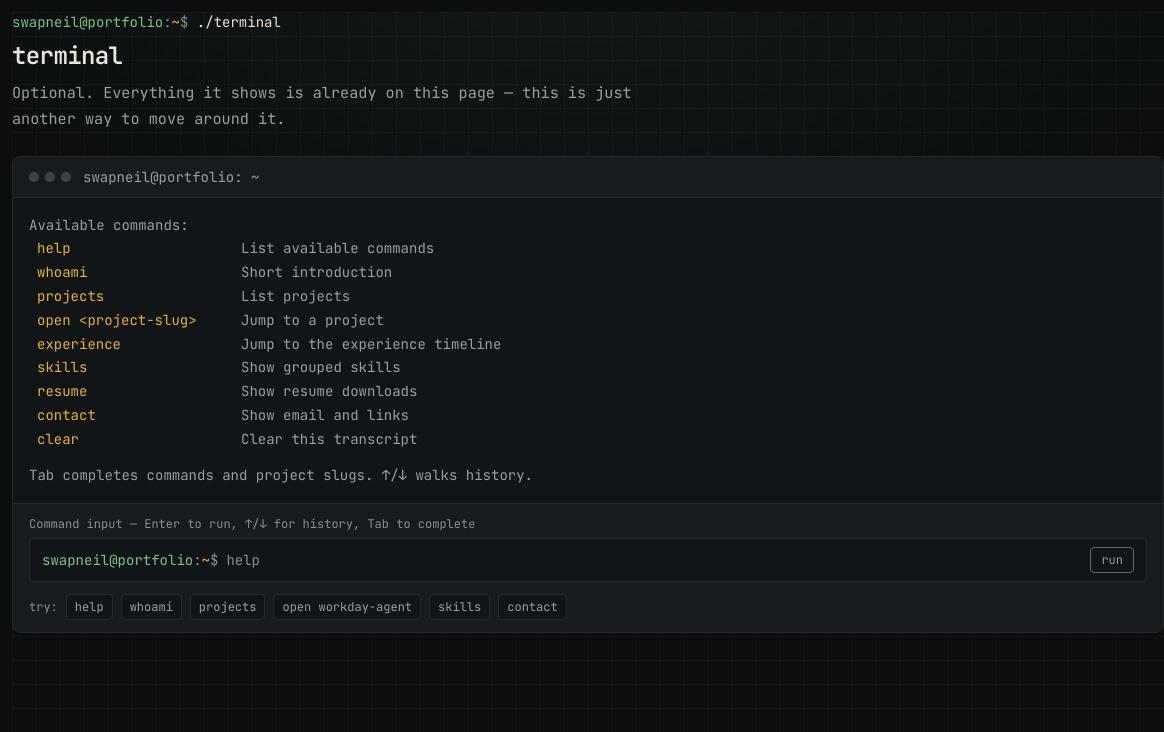
Test: TerminalPanel › reports unknown commands with a suggestion
Step 1. Type "hlep" into the field labelled "Command input" → (654, 560), box [226,550,1082,570]
Then press Enter
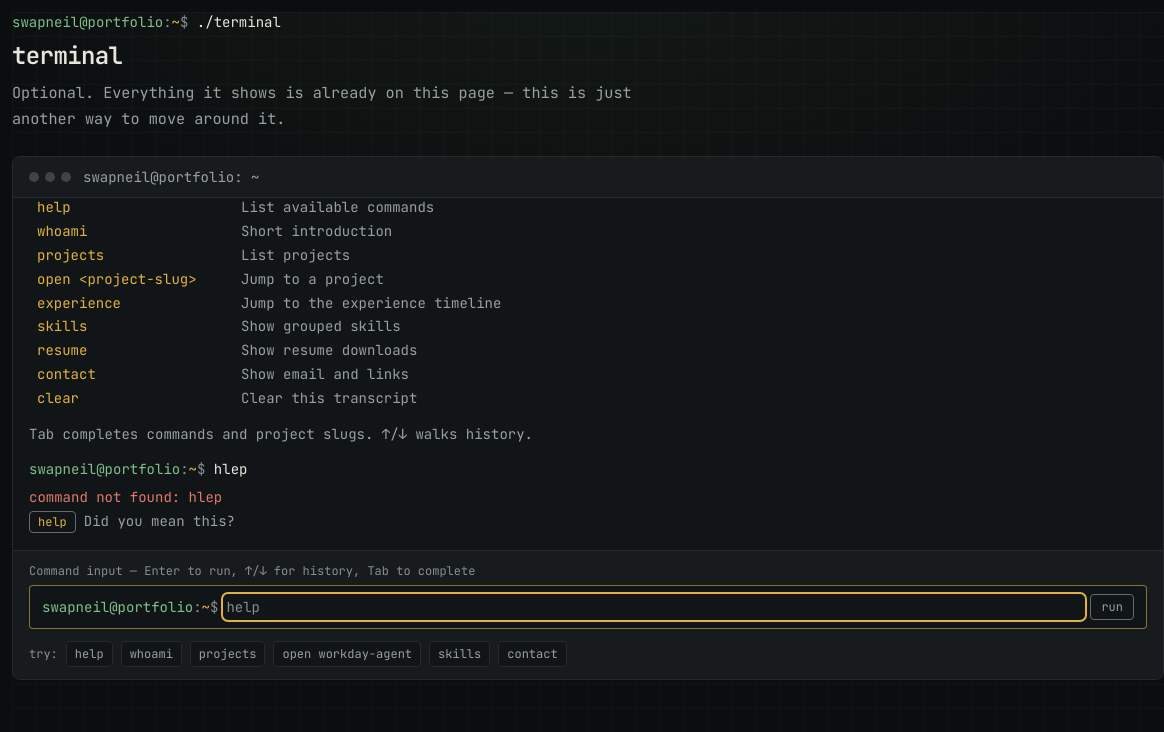
Result: the text "command not found: hlep" is shown at [29,488,222,506]
Result: the button "help" next to "Did you mean this?" is shown at [29,511,76,533]
